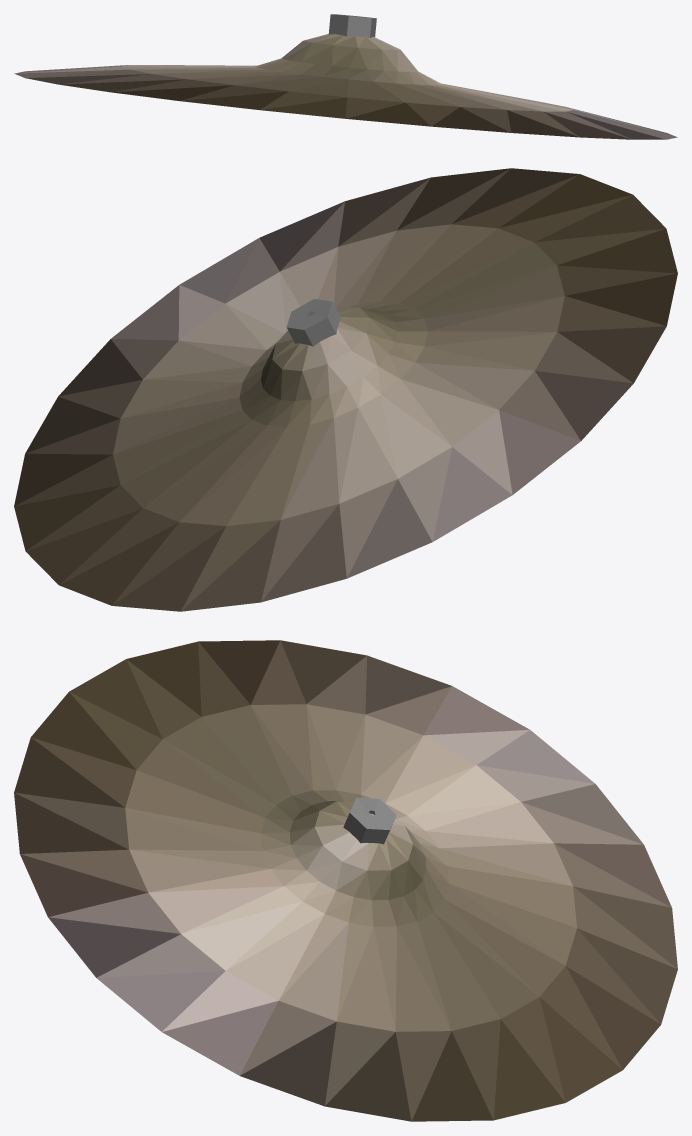
The model's file is cymbal3-head.fbx.
The picture shows the model from 3 angles, top to bottom: view 1: azimuth 30°, elevation 25°; view 2: azimuth 150°, elevation 25°; view 3: azimuth 270°, elevation 25°; orthographic projection. The views are drawn at different scales.
Parts seen in each view (by area): view 1: polySurface792; view 2: polySurface792; view 3: polySurface792.
Boxes of the visible parts, box(x1,y1,x2,y2) form: polySurface792: box(14, 14, 677, 139); polySurface792: box(14, 168, 677, 611); polySurface792: box(14, 640, 677, 1121).
Size of the model in its own units: 61.36 by 25.25 by 61.07.
